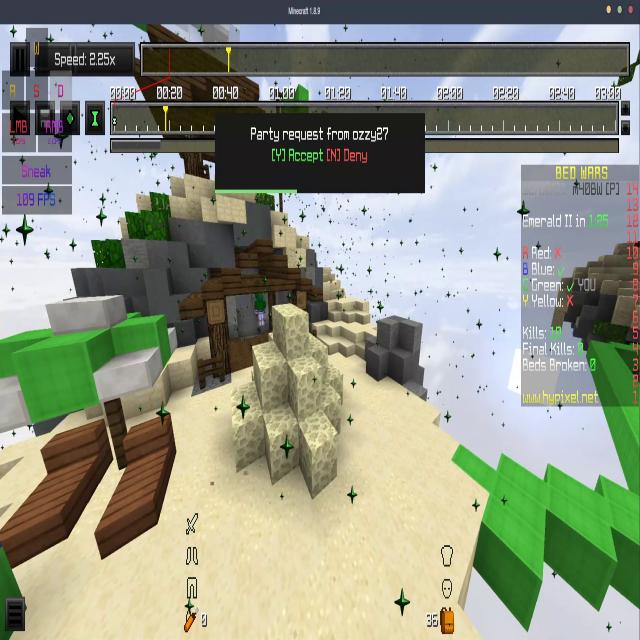Player: (250, 286, 270, 333)
